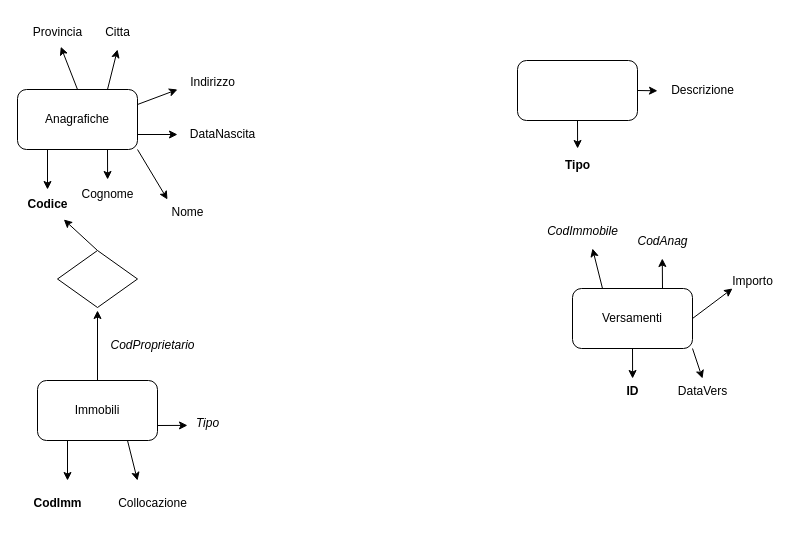
Image size: 800x535. Some labels were removed from this diagram. The centre of each missing label's shape, as x and y in pixels:
Contirne: (97,279)
TipoImmobili: (577,90)
